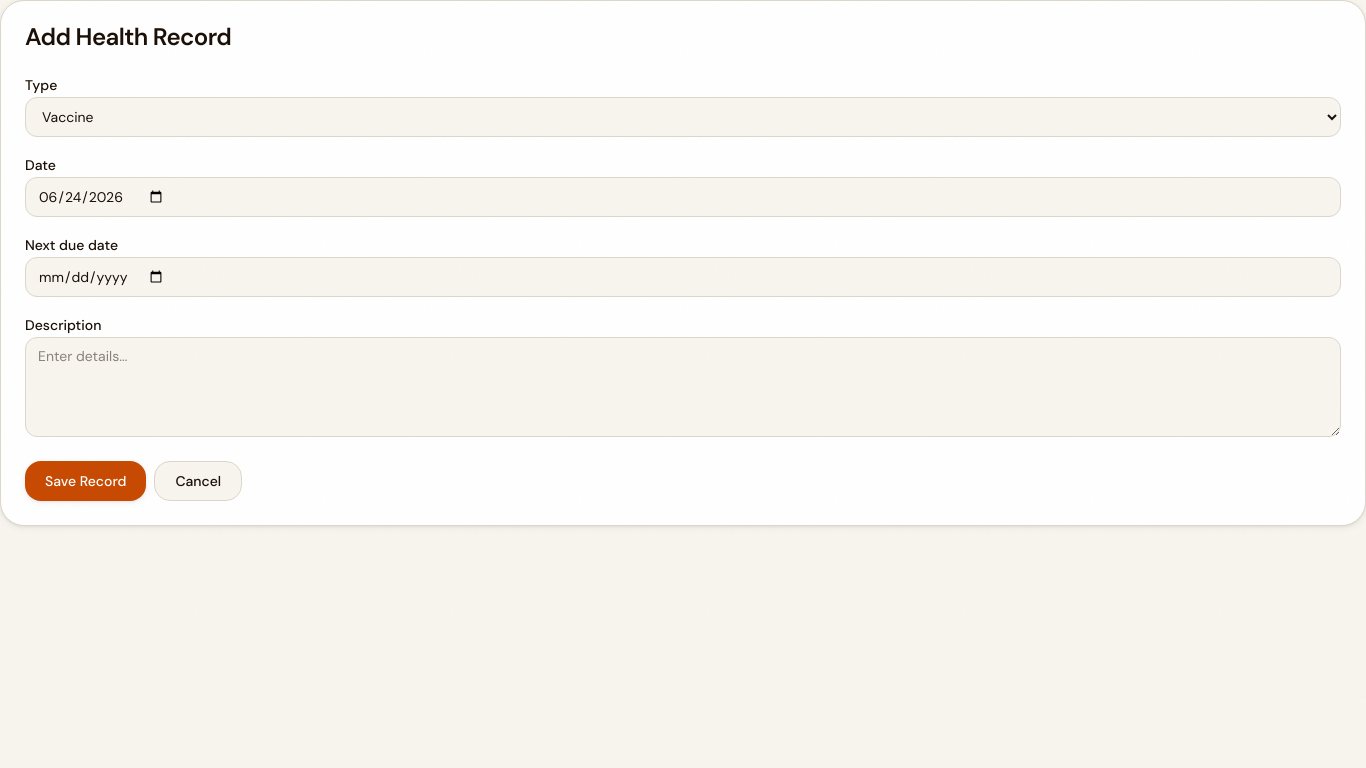
Test: HealthRecordForm › hides next_due_date field when type changes to allergy (REQ-01.2)
Select "Allergy" in the dropdown at (683, 117), box [25, 97, 1341, 137]
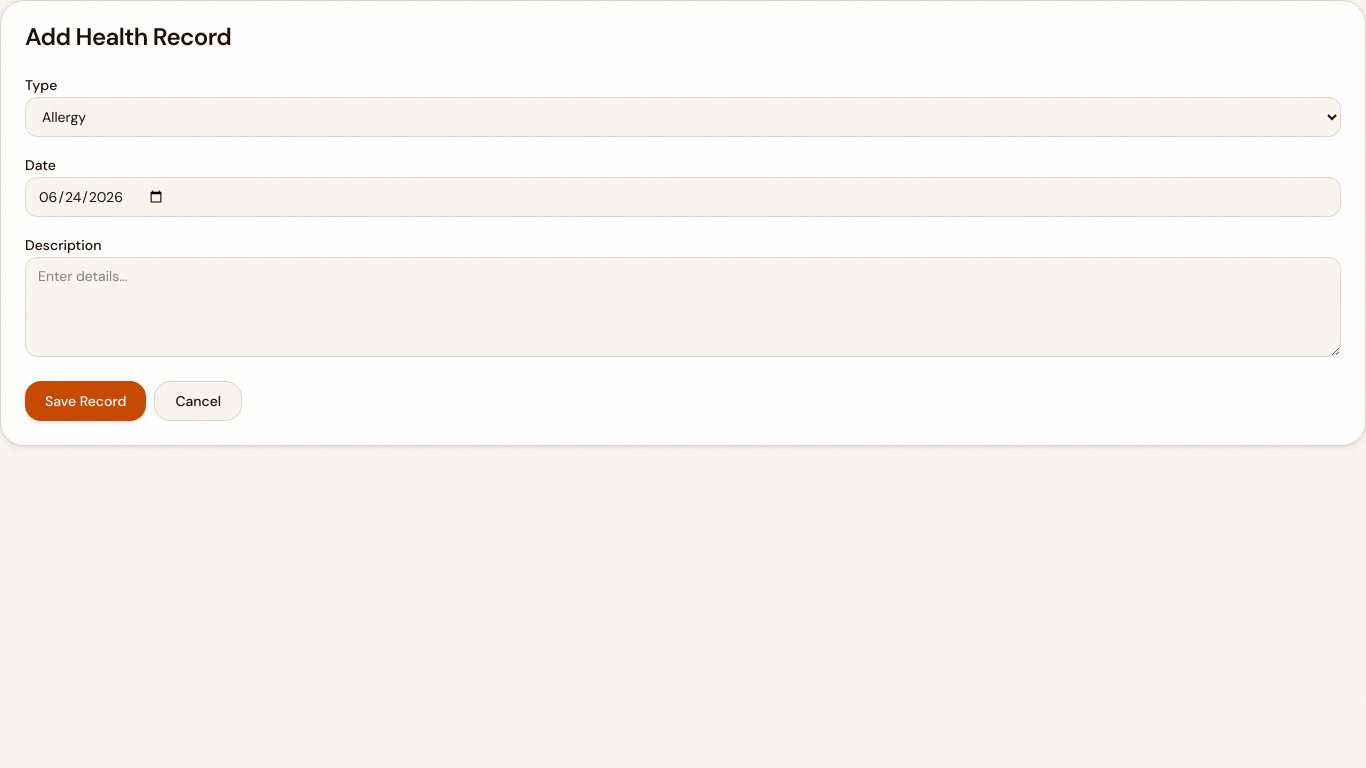
expect the label labelled "Next due date" is gone: met
